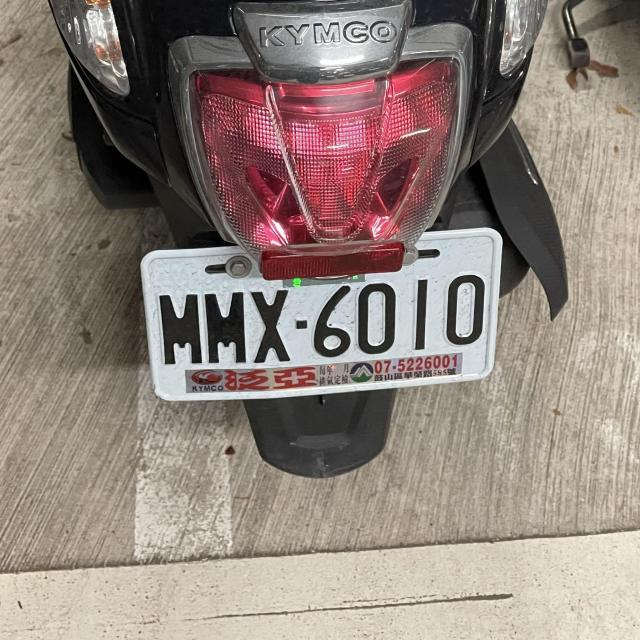W: (136, 240, 504, 407)
